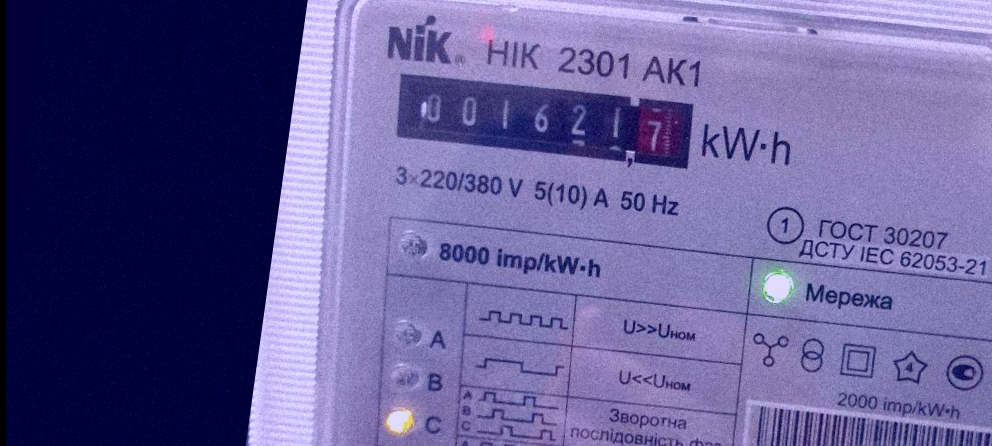0: (456, 91, 483, 131), (421, 88, 446, 125)
1: (607, 102, 626, 141), (496, 95, 515, 132)
2: (567, 100, 593, 139)
6: (530, 99, 553, 136)
7: (640, 116, 665, 154)
screen: (386, 60, 703, 183)
